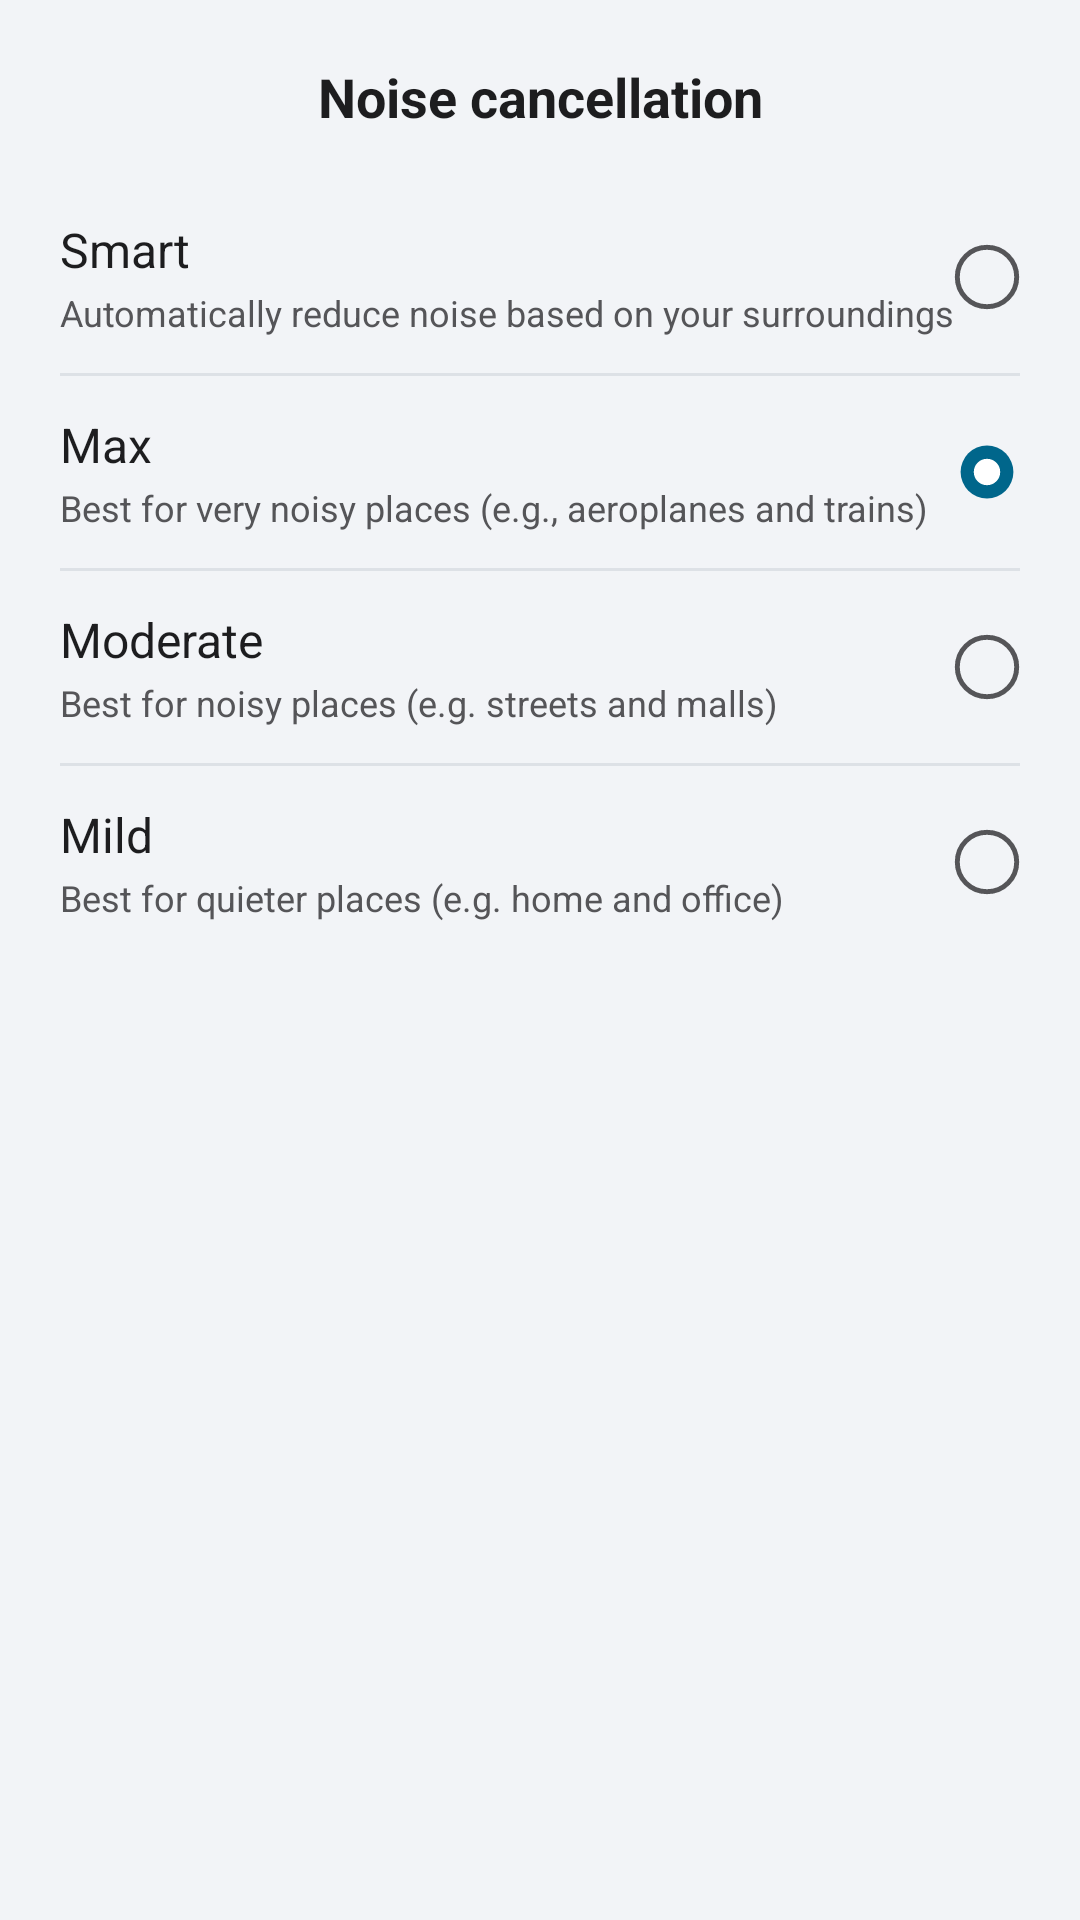

Where to tap for icons on this 1080px×1920px app screen, as point (x, y):
Select Max: point (987, 472)
Select Mild: point (987, 862)
Select Moderate: point (987, 667)
Select Smart: point (987, 277)
